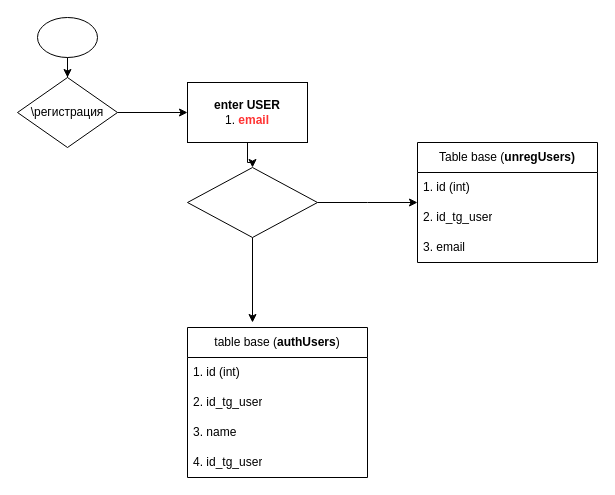
Image size: 615x495. Some labels were removed from this diagram. Here are the shapes that lost their labels. From the top down, the centre of each, then its label:
pixel 67 37: start
pixel 252 202: admins НЕТ ДА
